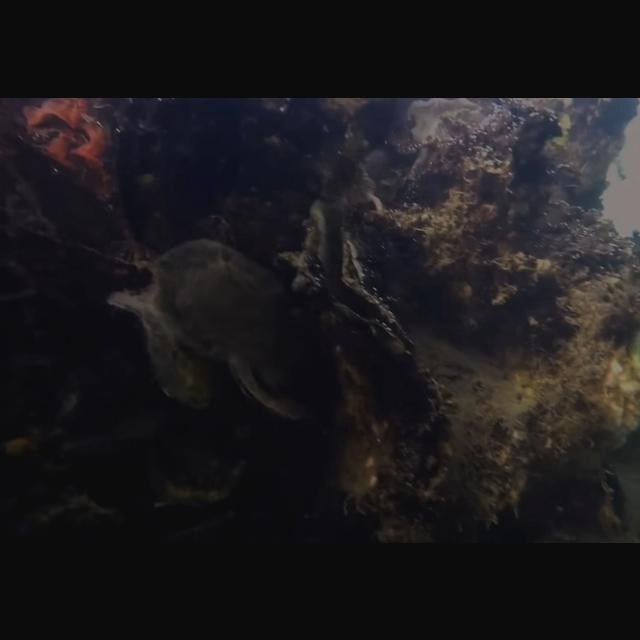Oyster-Closed: (152, 237, 330, 423)
Oyster-Open: (278, 198, 418, 364)
